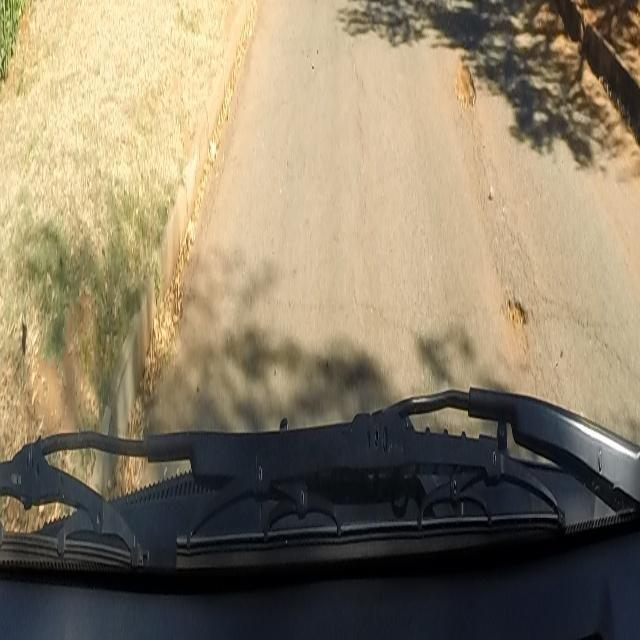pothole: (452, 56, 477, 109), (505, 292, 528, 328)
